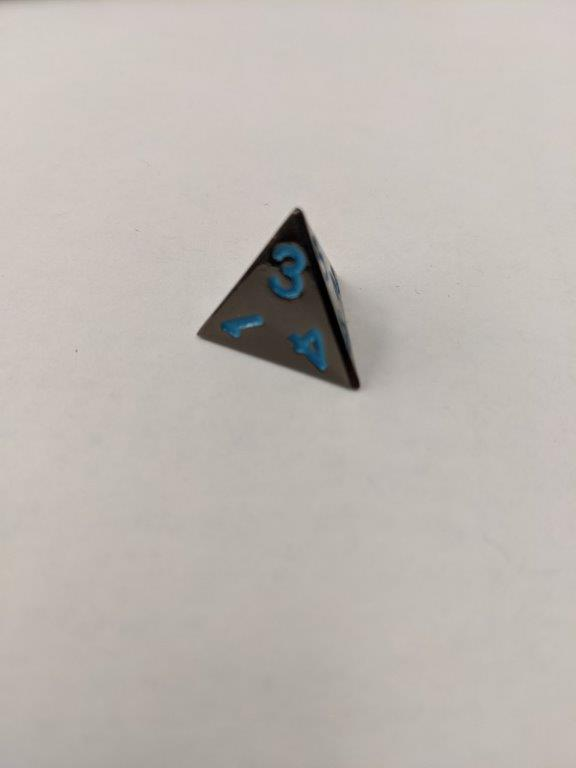d4-3: (193, 203, 362, 397)
